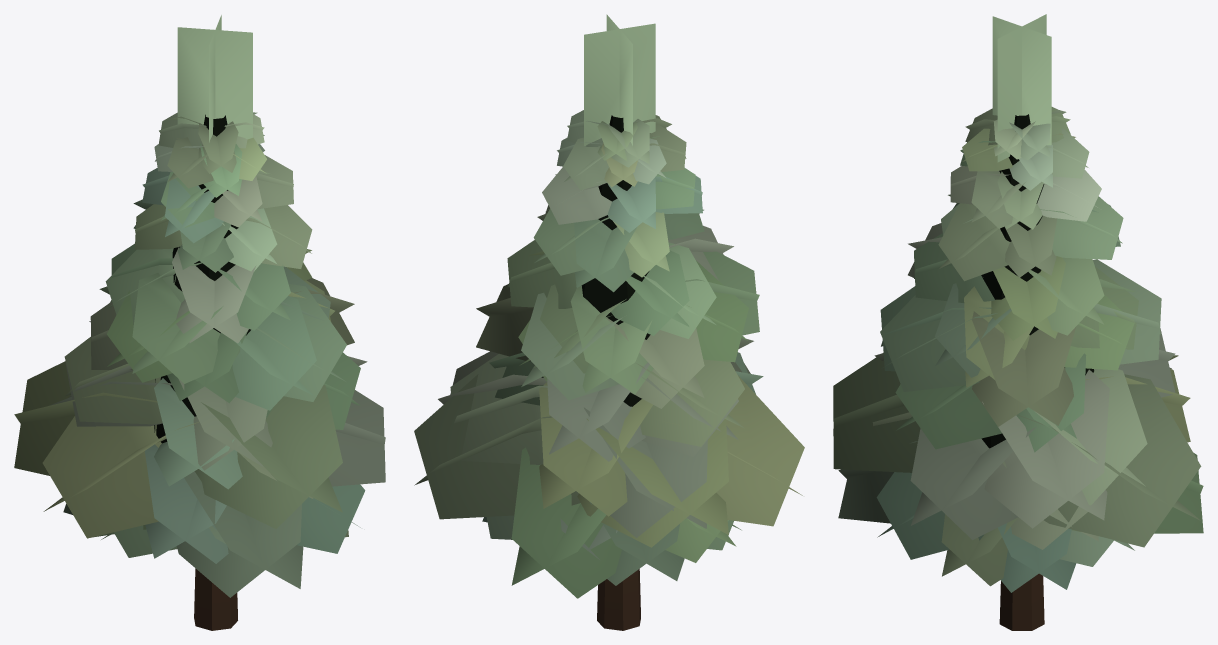
Rendered from tree_pine.glb.
3 views of the same model, side by side, from view 1: azimuth 30°, elevation 25°; view 2: azimuth 150°, elevation 25°; view 3: azimuth 270°, elevation 25° (orthographic).
Parts seen in each view (by area): view 1: tree_pine; view 2: tree_pine; view 3: tree_pine.
Boxes of the visible parts, left/top/right/bottom form: tree_pine: left=14, top=15, right=385, bottom=630; tree_pine: left=414, top=14, right=804, bottom=630; tree_pine: left=833, top=14, right=1203, bottom=630.
Bounding box in the file's own units: 4.37 × 7.7 × 4.34.
